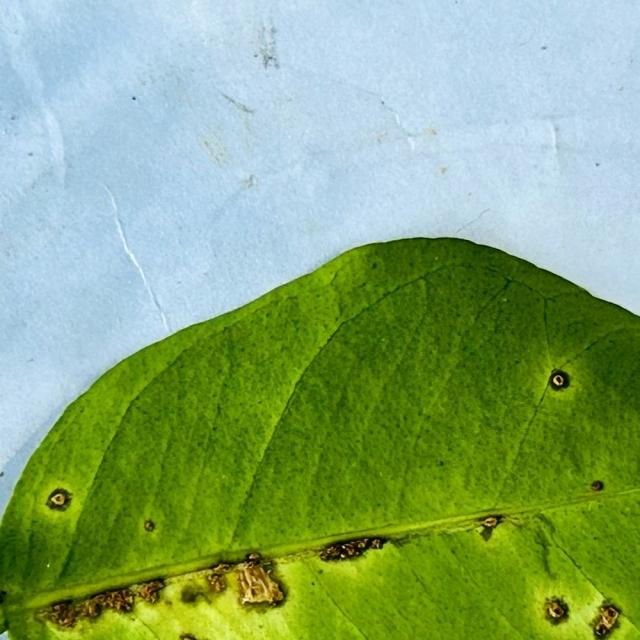Anthracnose: (34, 549, 300, 631), (294, 518, 501, 562), (37, 582, 163, 628), (218, 556, 294, 615), (213, 555, 286, 609), (162, 565, 231, 598), (95, 585, 151, 615), (318, 536, 385, 561), (475, 512, 527, 538), (207, 556, 243, 592), (124, 580, 168, 609), (590, 604, 619, 639), (574, 480, 624, 500), (42, 601, 78, 627), (44, 486, 73, 512), (548, 367, 574, 394), (543, 597, 568, 623), (388, 532, 420, 549), (548, 369, 570, 390), (502, 514, 529, 528), (83, 600, 102, 619), (318, 545, 340, 561), (480, 515, 504, 529), (604, 607, 617, 621), (595, 623, 609, 636), (342, 545, 357, 557), (245, 552, 261, 563), (144, 519, 156, 532), (591, 480, 603, 491), (370, 538, 383, 548), (484, 518, 496, 526), (179, 636, 200, 640), (53, 495, 63, 503), (555, 376, 562, 384), (0, 590, 7, 598)
Lemon: (0, 237, 639, 639)
